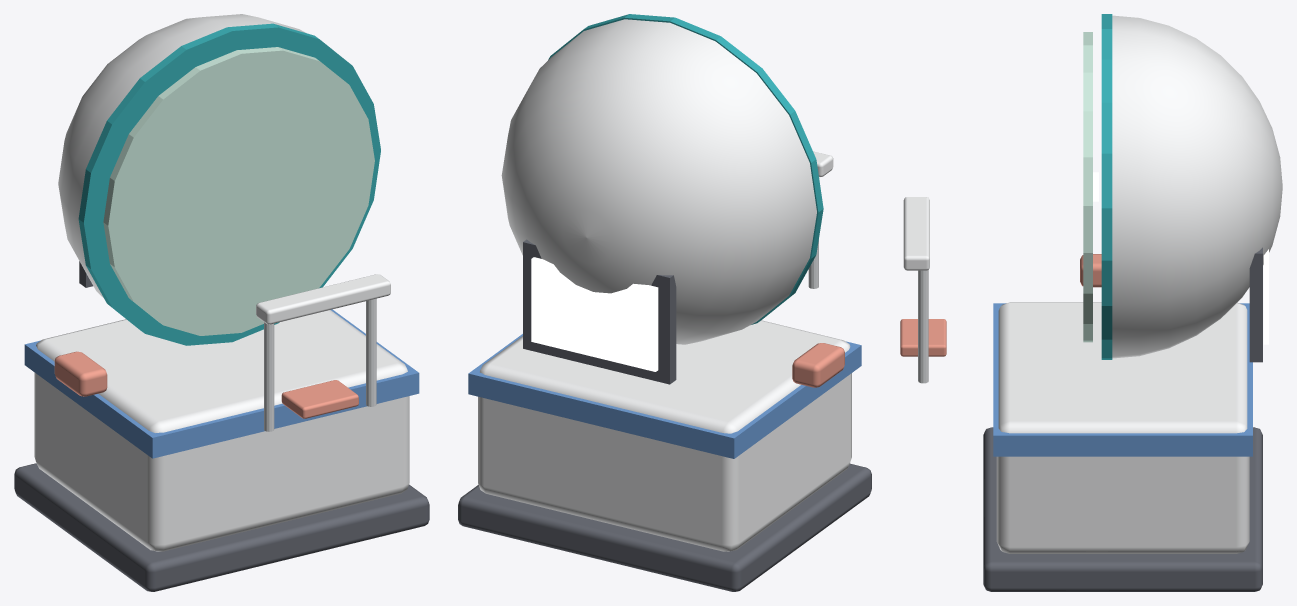
3 renders of one model, left to right at view 1: azimuth 30°, elevation 25°; view 2: azimuth 150°, elevation 25°; view 3: azimuth 270°, elevation 25°, orthographic.
Visible parts, largest first — view 1: visual-field-screener; view 2: visual-field-screener; view 3: visual-field-screener.
Boxes of the visible parts, x1,y1,x2,y2 form: visual-field-screener: [14, 14, 429, 591]; visual-field-screener: [458, 14, 871, 591]; visual-field-screener: [900, 14, 1282, 591].
Size of the model in its own units: 0.547 by 0.822 by 0.575.
